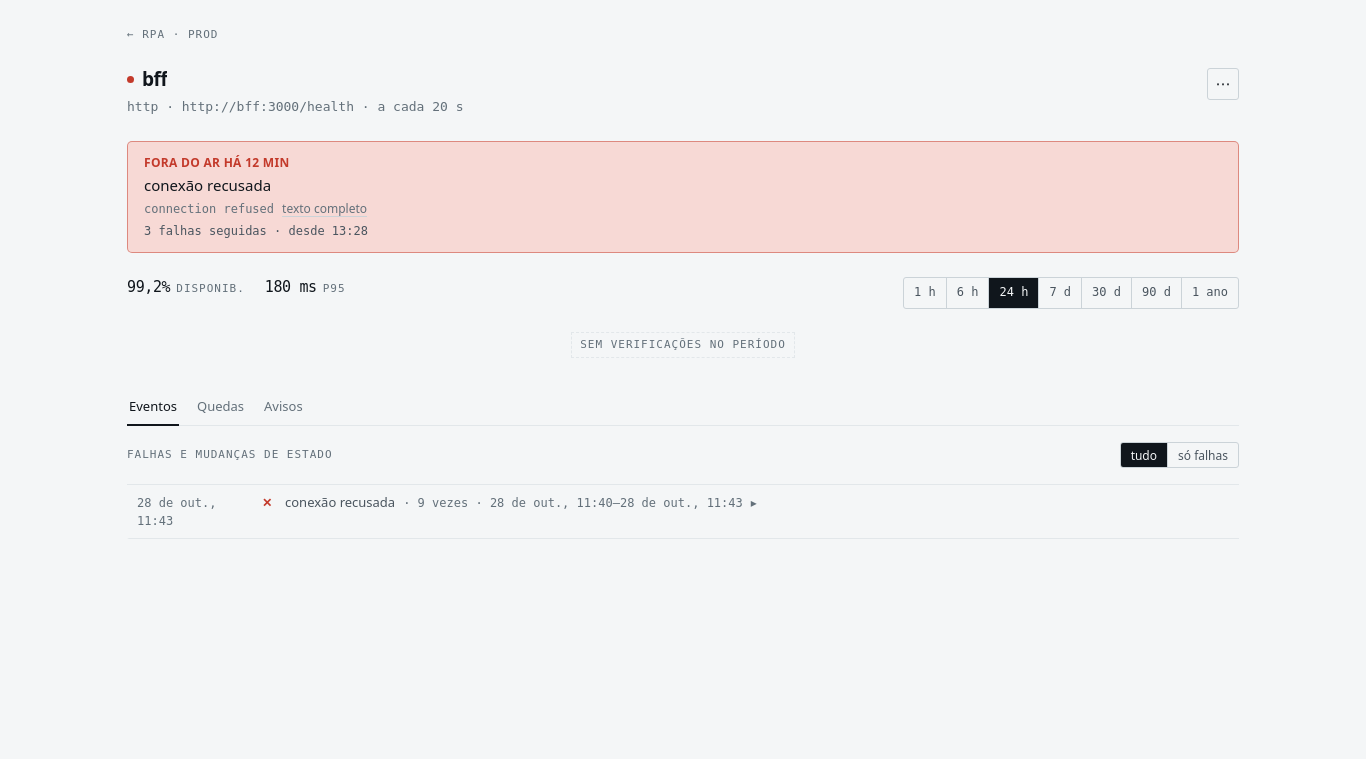
MonitorDetail: falhas repetidas › junta falhas iguais numa linha que abre para as individuais
expect the text "connectex" is not shown: met
Click the button that starts with "conexão recusada".
click(333, 501)  # box [285, 493, 1235, 513]
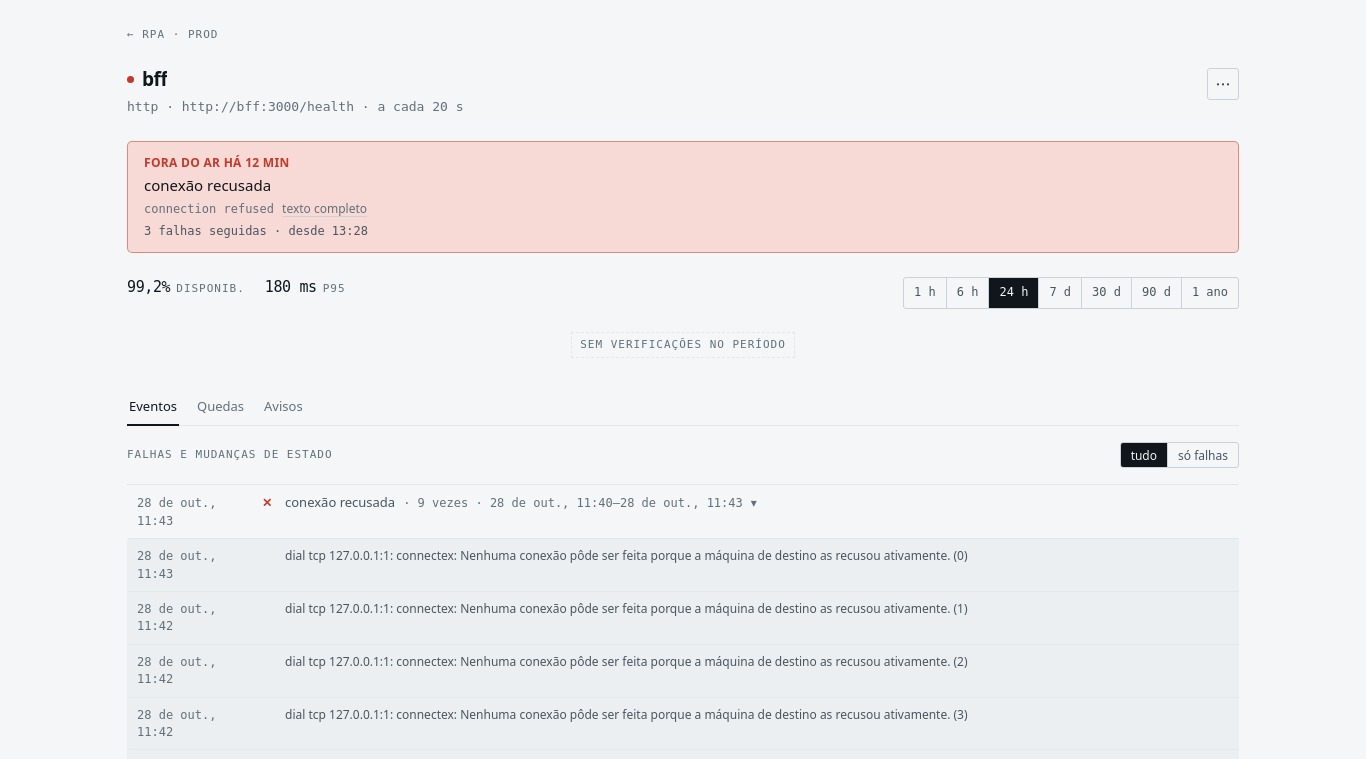
expect the button that starts with "conexão recusada" is expanded: met, box [285, 493, 1235, 513]
expect the text "connectex" is shown 9 times: met
